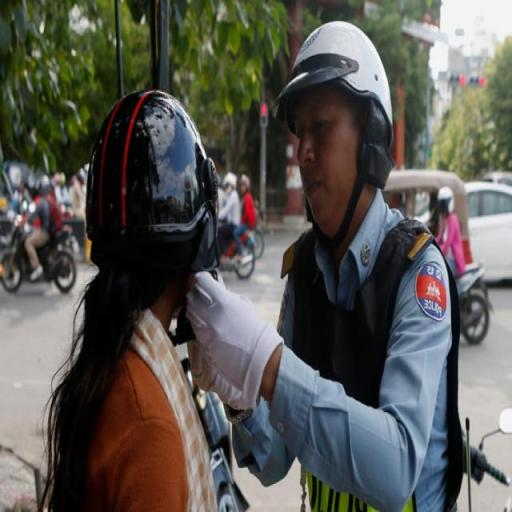Helmet: (274, 22, 394, 245), (87, 91, 218, 271), (438, 187, 454, 214), (39, 175, 51, 195), (223, 172, 236, 187), (240, 174, 250, 189)
Motor: (170, 308, 248, 511), (464, 408, 511, 485), (457, 264, 491, 344), (0, 216, 33, 292), (220, 231, 255, 279)
